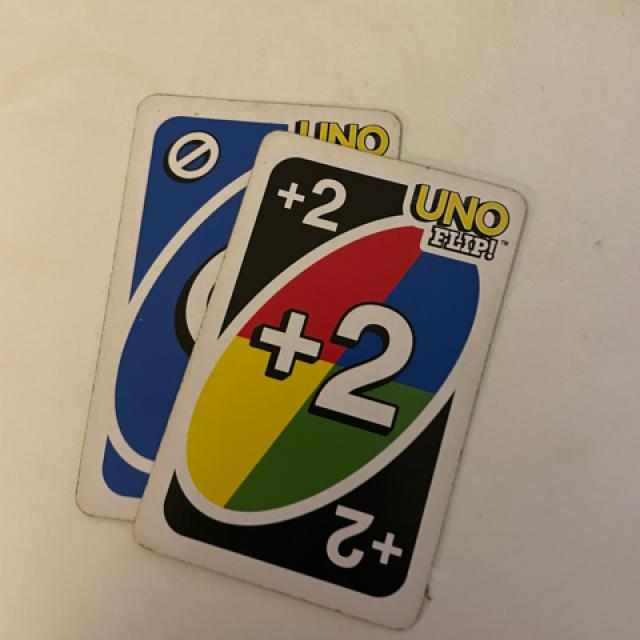lblueskip-20: (147, 110, 234, 203)
